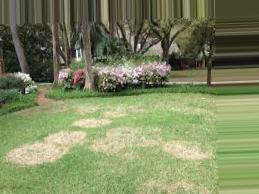patch: (21, 144, 55, 154), (172, 143, 191, 156), (57, 133, 79, 144), (116, 130, 133, 141), (99, 141, 114, 151)
